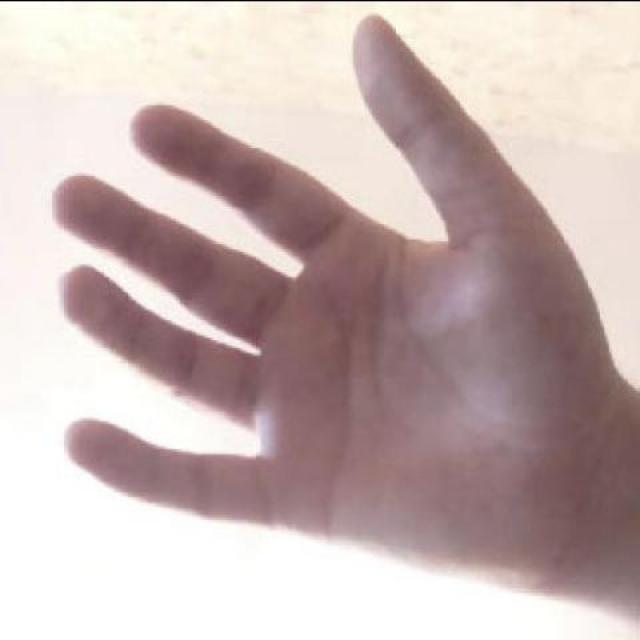Open Hand: (50, 11, 639, 593)
